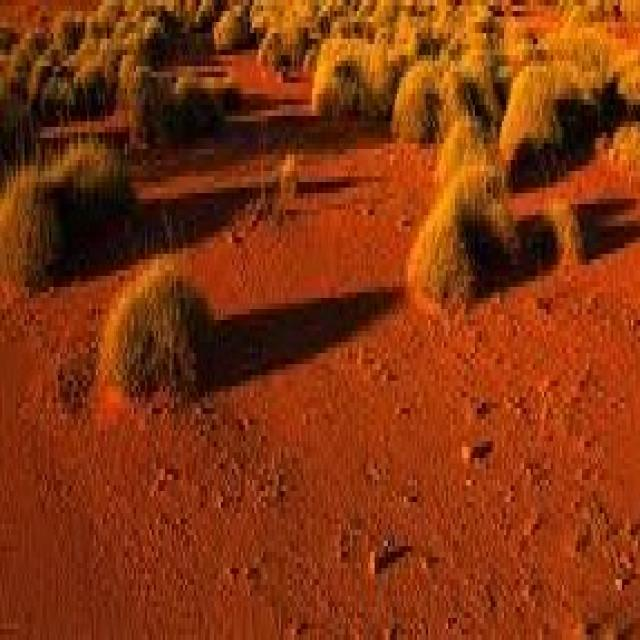Red Soil: (222, 139, 406, 595), (498, 310, 626, 624), (4, 318, 108, 614)
